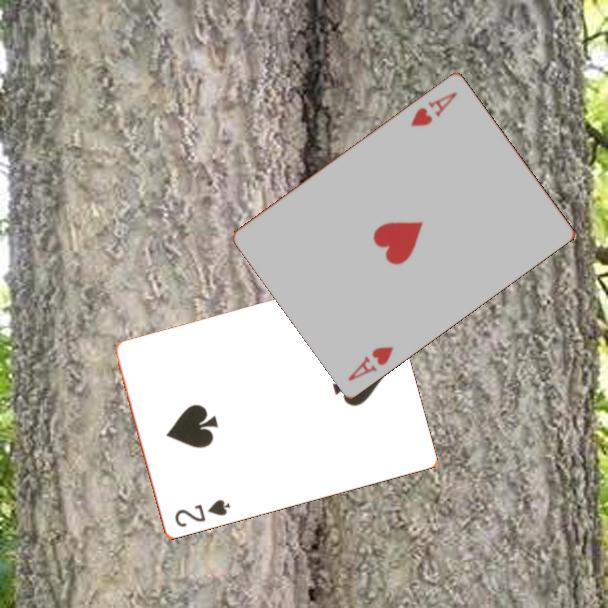h01: (344, 342, 397, 384), (407, 88, 460, 129)
s02: (171, 496, 233, 530)
